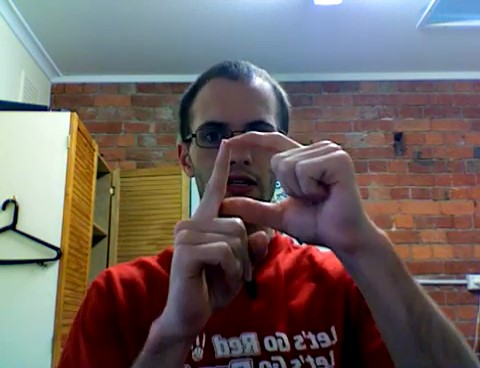D: (169, 122, 368, 314)
